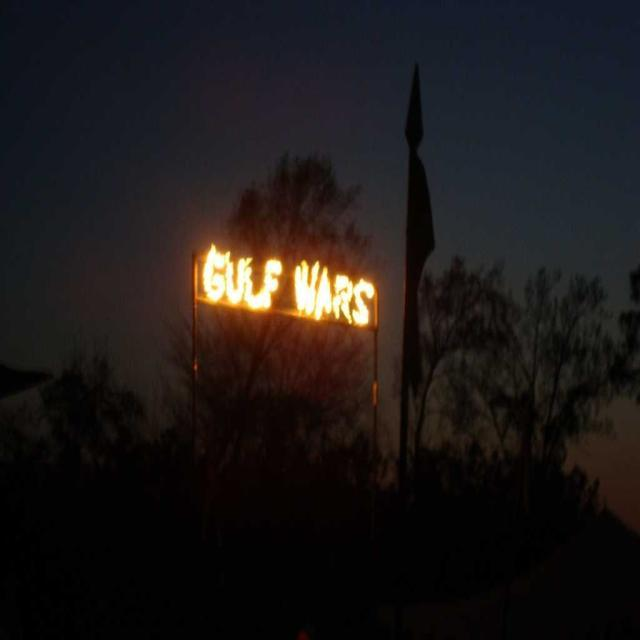Fire: (199, 244, 282, 318), (300, 260, 372, 334)
